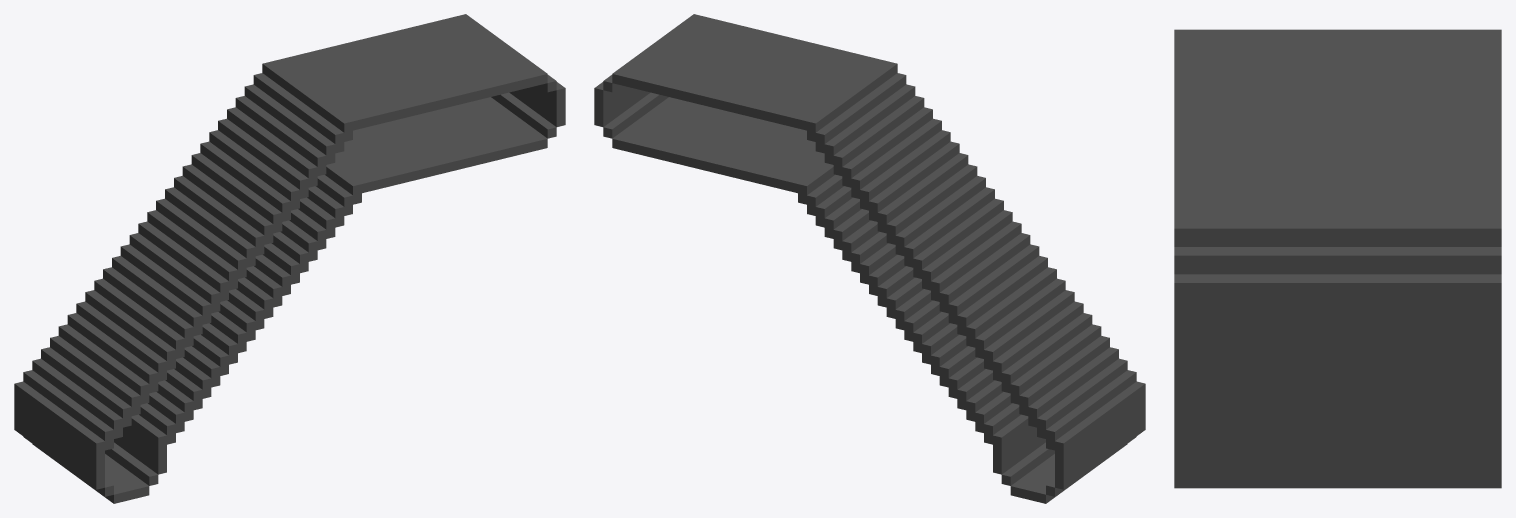
File: лента.obj
3 renders of one model, left to right at view 1: azimuth 30°, elevation 25°; view 2: azimuth 150°, elevation 25°; view 3: azimuth 270°, elevation 25°, orthographic. The views are drawn at different scales.
Size of the model in its own units: 5.3 by 3.5 by 1.6.
1 material, 1 textured.
